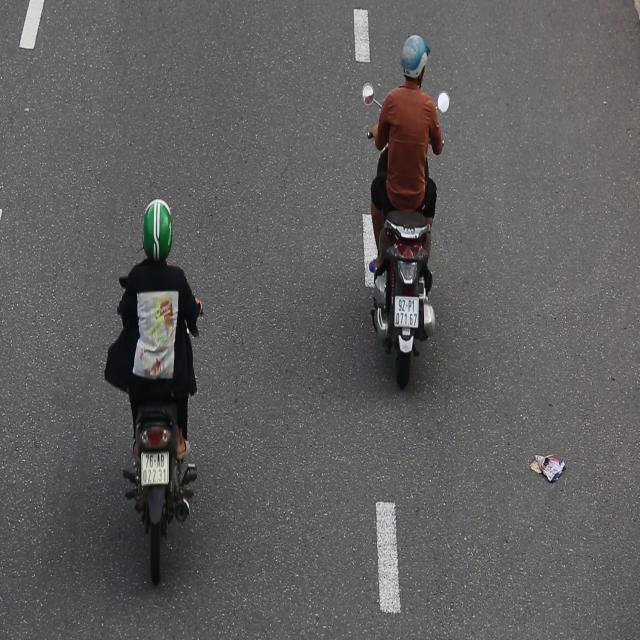motorbike: (106, 185, 206, 590), (362, 29, 456, 399)
